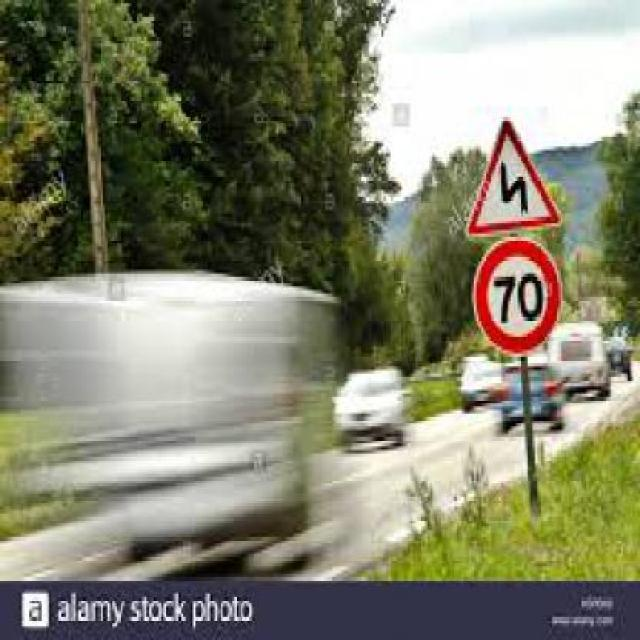forb_speed_over_70: (469, 237, 563, 354)
warn_double_curve: (462, 113, 573, 230)
